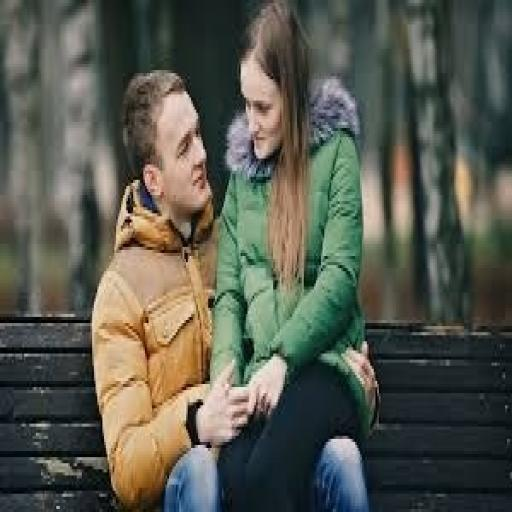sitting: (89, 3, 382, 509)
